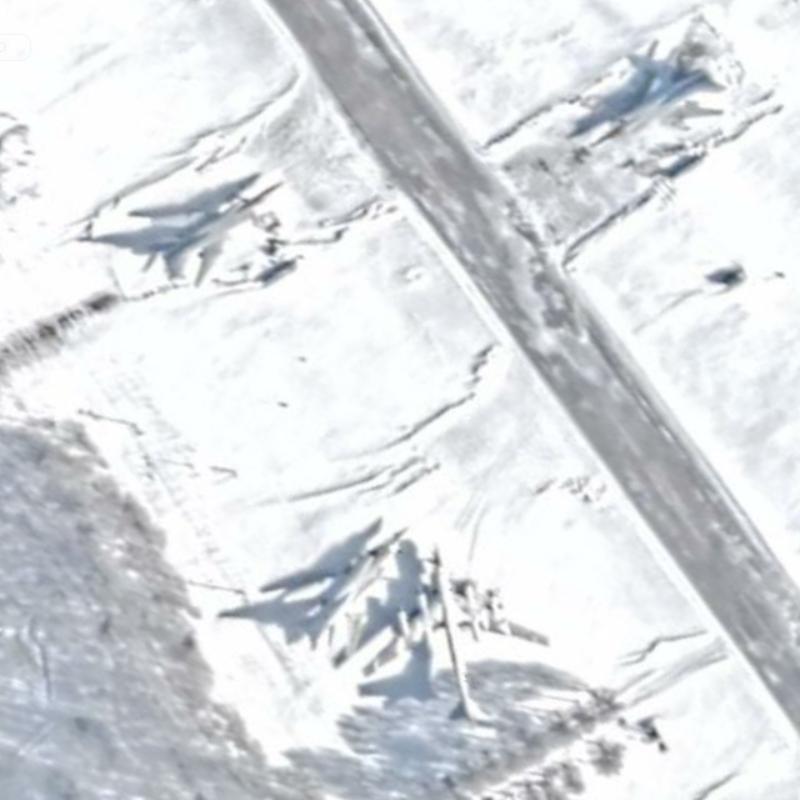A12: (279, 524, 413, 660), (147, 177, 289, 288), (586, 45, 730, 148)
A17: (359, 544, 556, 727)
